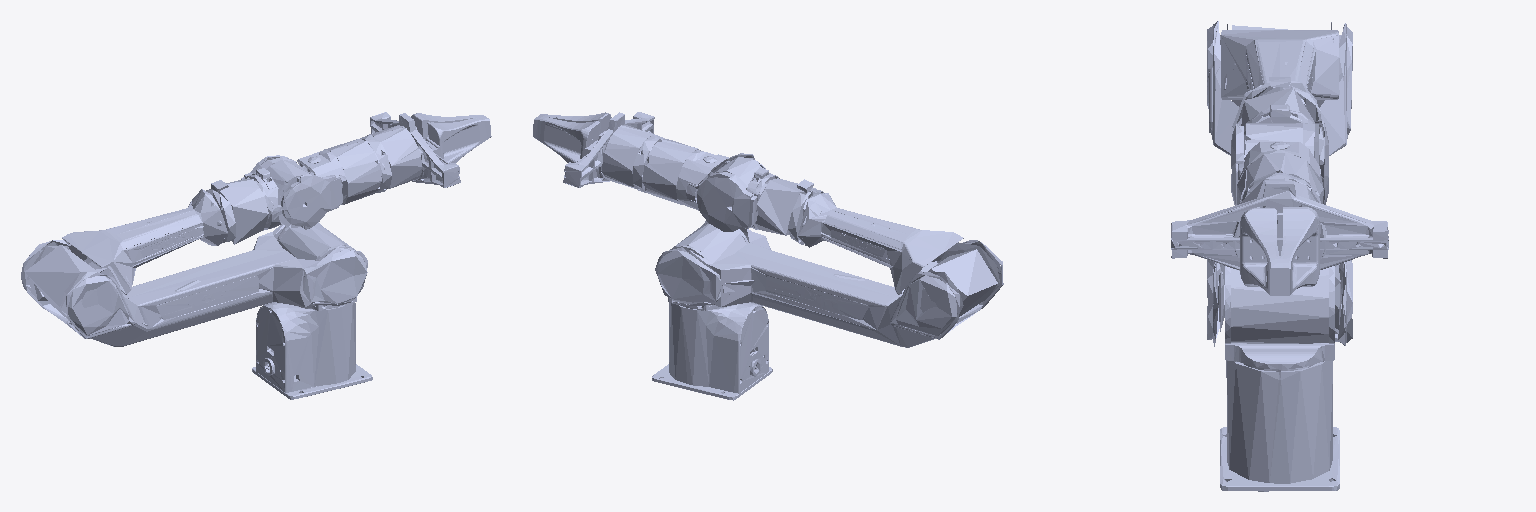
robot.urdf — piper:
<?xml version='1.0' encoding='utf-8'?>
<robot name="piper">
  <!-- Generated by convert_piper_urdf.py from piper_ros piper_description/urdf/piper_description.urdf: fixed joints collapsed, collision meshes removed, visual meshes decimated to 20000 triangles in total. -->
  <link name="base_link">
    <inertial>
      <origin xyz="-0.00473641164 2.56829135e-05 0.041451518" rpy="0 0 0" />
      <mass value="1.02" />
      <inertia ixx="0.00267433" ixy="-7.3e-07" ixz="-0.00017389" iyy="0.00282612" iyz="4e-07" izz="0.00089624" />
    </inertial>
    <visual>
      <origin xyz="0 0 0" rpy="0 0 0" />
      <geometry>
        <mesh filename="meshes/base_link.stl" />
      </geometry>
      <material name="">
        <color rgba="0.792156862745098 0.819607843137255 0.933333333333333 1" />
      </material>
    </visual>
  </link>
  <link name="link1">
    <inertial>
      <origin xyz="0.000121504734 0.000104632162 -0.0043859731" rpy="0 0 0" />
      <mass value="0.71" />
      <inertia ixx="0.00048916" ixy="-3.6e-07" ixz="-2.24e-06" iyy="0.00040472" iyz="-2.42e-06" izz="0.00043982" />
    </inertial>
    <visual>
      <origin xyz="0 0 0" rpy="0 0 0" />
      <geometry>
        <mesh filename="meshes/link1.stl" />
      </geometry>
      <material name="">
        <color rgba="0.792156862745098 0.819607843137255 0.933333333333333 1" />
      </material>
    </visual>
  </link>
  <link name="link2">
    <inertial>
      <origin xyz="0.198666145 -0.0109269241 0.00142121715" rpy="0 0 0" />
      <mass value="1.17" />
      <inertia ixx="0.00116918" ixy="-0.00180037" ixz="0.00025146" iyy="0.06785384" iyz="-4.55e-06" izz="0.06774489" />
    </inertial>
    <visual>
      <origin xyz="0 0 0" rpy="0 0 0" />
      <geometry>
        <mesh filename="meshes/link2.stl" />
      </geometry>
      <material name="">
        <color rgba="0.792156862745098 0.819607843137255 0.933333333333333 1" />
      </material>
    </visual>
  </link>
  <link name="link3">
    <inertial>
      <origin xyz="-0.0202737662 -0.133914996 -0.000458682653" rpy="0 0 0" />
      <mass value="0.5" />
      <inertia ixx="0.01361711" ixy="0.00165794" ixz="-4.8e-07" iyy="0.00045024" iyz="-4.5e-07" izz="0.01380322" />
    </inertial>
    <visual>
      <origin xyz="0 0 0" rpy="0 0 0" />
      <geometry>
        <mesh filename="meshes/link3.stl" />
      </geometry>
      <material name="">
        <color rgba="0.792156862745098 0.819607843137255 0.933333333333333 1" />
      </material>
    </visual>
  </link>
  <link name="link4">
    <inertial>
      <origin xyz="-9.66635792e-05 0.000876064476 -0.00496880905" rpy="0 0 0" />
      <mass value="0.38" />
      <inertia ixx="0.00018501" ixy="5.4e-07" ixz="1.2e-06" iyy="0.00018965" iyz="-8.41e-06" izz="0.00015484" />
    </inertial>
    <visual>
      <origin xyz="0 0 0" rpy="0 0 0" />
      <geometry>
        <mesh filename="meshes/link4.stl" />
      </geometry>
      <material name="">
        <color rgba="0.792156862745098 0.819607843137255 0.933333333333333 1" />
      </material>
    </visual>
  </link>
  <link name="link5">
    <inertial>
      <origin xyz="-4.10554119e-05 -0.0566486692 -0.00372057917" rpy="0 0 0" />
      <mass value="0.383" />
      <inertia ixx="0.00166169" ixy="6e-08" ixz="-7e-08" iyy="0.0001851" iyz="1.026e-05" izz="0.00164321" />
    </inertial>
    <visual>
      <origin xyz="0 0 0" rpy="0 0 0" />
      <geometry>
        <mesh filename="meshes/link5.stl" />
      </geometry>
      <material name="">
        <color rgba="0.792156862745098 0.819607843137255 0.933333333333333 1" />
      </material>
    </visual>
  </link>
  <link name="link6">
    <inertial>
      <origin xyz="-0.000182343625 7.94089953e-05 0.0316206806" rpy="0 0 0" />
      <mass value="0.457" />
      <inertia ixx="0.000937948584" ixy="3.40047052e-07" ixz="-7.35751326e-06" iyy="0.000723078612" iyz="3.31861516e-08" izz="0.000395487487" />
    </inertial>
    <visual>
      <origin xyz="0 0 0" rpy="0 0 0" />
      <geometry>
        <mesh filename="meshes/link6.stl" />
      </geometry>
      <material name="">
        <color rgba="0.898039215686275 0.917647058823529 0.929411764705882 1" />
      </material>
    </visual>
    <visual>
      <origin xyz="0 0 0" rpy="0 0 0" />
      <geometry>
        <mesh filename="meshes/gripper_base.stl" />
      </geometry>
      <material name="">
        <color rgba="0.792156862745098 0.819607843137255 0.933333333333333 1" />
      </material>
    </visual>
  </link>
  <link name="link7">
    <inertial>
      <origin xyz="0.00065123185 -0.0491929869 0.00972258769" rpy="0 0 0" />
      <mass value="0.025" />
      <inertia ixx="7.371e-05" ixy="-1.13e-06" ixz="2.1e-07" iyy="7.81e-06" iyz="-1.372e-05" izz="7.47e-05" />
    </inertial>
    <visual>
      <origin xyz="0 0 0" rpy="0 0 0" />
      <geometry>
        <mesh filename="meshes/link7.stl" />
      </geometry>
      <material name="">
        <color rgba="0.792156862745098 0.819607843137255 0.933333333333333 1" />
      </material>
    </visual>
  </link>
  <link name="link8">
    <inertial>
      <origin xyz="0.00065123185 -0.0491929869 0.00972258769" rpy="0 0 0" />
      <mass value="0.025" />
      <inertia ixx="7.371e-05" ixy="-1.13e-06" ixz="2.1e-07" iyy="7.81e-06" iyz="-1.372e-05" izz="7.47e-05" />
    </inertial>
    <visual>
      <origin xyz="0 0 0" rpy="0 0 0" />
      <geometry>
        <mesh filename="meshes/link8.stl" />
      </geometry>
      <material name="">
        <color rgba="0.792156862745098 0.819607843137255 0.933333333333333 1" />
      </material>
    </visual>
  </link>
  <joint name="joint1" type="revolute">
    <origin xyz="0 0 0.123" rpy="0 0 0" />
    <parent link="base_link" />
    <child link="link1" />
    <axis xyz="0 0 1" />
    <limit lower="-2.618" upper="2.618" effort="100" velocity="5" />
  </joint>
  <joint name="joint2" type="revolute">
    <origin xyz="0 0 0" rpy="1.5708 -0.1359 3.14158531" />
    <parent link="link1" />
    <child link="link2" />
    <axis xyz="0 0 1" />
    <limit lower="0" upper="3.14" effort="100" velocity="5" />
  </joint>
  <joint name="joint3" type="revolute">
    <origin xyz="0.28503 0 0" rpy="0 0 -1.7939" />
    <parent link="link2" />
    <child link="link3" />
    <axis xyz="0 0 1" />
    <limit lower="-2.967" upper="0" effort="100" velocity="5" />
  </joint>
  <joint name="joint4" type="revolute">
    <origin xyz="-0.021984 -0.25075 0" rpy="1.5708 0 0" />
    <parent link="link3" />
    <child link="link4" />
    <axis xyz="0 0 1" />
    <limit lower="-1.745" upper="1.745" effort="100" velocity="5" />
  </joint>
  <joint name="joint5" type="revolute">
    <origin xyz="0 0 0" rpy="-1.5708 0 0" />
    <parent link="link4" />
    <child link="link5" />
    <axis xyz="0 0 1" />
    <limit lower="-1.22" upper="1.22" effort="100" velocity="5" />
  </joint>
  <joint name="joint6" type="revolute">
    <origin xyz="8.8259e-05 -0.091 0" rpy="1.5708 0 0" />
    <parent link="link5" />
    <child link="link6" />
    <axis xyz="0 0 1" />
    <limit lower="-2.0944" upper="2.0944" effort="100" velocity="3" />
  </joint>
  <joint name="joint7" type="prismatic">
    <origin xyz="0 0 0.1358" rpy="1.5708 0 0" />
    <parent link="link6" />
    <child link="link7" />
    <axis xyz="0 0 1" />
    <limit lower="0" upper="0.035" effort="10" velocity="1" />
  </joint>
  <joint name="joint8" type="prismatic">
    <origin xyz="0 0 0.1358" rpy="1.5708 0 3.14158531" />
    <parent link="link6" />
    <child link="link8" />
    <axis xyz="0 0 -1" />
    <limit lower="-0.035" upper="0" effort="10" velocity="1" />
  </joint>
</robot>

--- What the picture shows (computed from the rendered views, not written in the file) ---
Views: 3 orthographic renders of the robot side by side, from view 1: azimuth 30°, elevation 25°; view 2: azimuth 150°, elevation 25°; view 3: azimuth 270°, elevation 25°.
Robot: piper — 9 links, 8 joints (6 revolute, 2 prismatic); root link base_link; default pose: all joints at 0.
Links seen in each view (by area): view 1: link2, link3, base_link, link5, link6, link4, link7, link1, link8; view 2: link2, link3, base_link, link6, link4, link5, link8, link1, link7; view 3: base_link, link3, link1, link6, link2, link5, link8, link4, link7.
Link boxes in pixels (left/top/right/bottom): link2: left=21, top=222, right=367, bottom=346; link3: left=27, top=179, right=268, bottom=315; base_link: left=252, top=302, right=372, bottom=399; link5: left=281, top=139, right=381, bottom=229; link6: left=360, top=112, right=460, bottom=192; link4: left=241, top=155, right=310, bottom=230; link7: left=425, top=117, right=491, bottom=163; link1: left=277, top=223, right=356, bottom=310; link8: left=411, top=113, right=485, bottom=140; link2: left=655, top=221, right=1003, bottom=347; link3: left=756, top=178, right=999, bottom=311; base_link: left=652, top=302, right=772, bottom=400; link6: left=563, top=112, right=664, bottom=192; link4: left=697, top=157, right=779, bottom=231; link5: left=642, top=139, right=765, bottom=210; link8: left=533, top=117, right=599, bottom=162; link1: left=668, top=222, right=748, bottom=310; link7: left=538, top=112, right=611, bottom=140; base_link: left=1220, top=361, right=1339, bottom=491; link3: left=1220, top=22, right=1339, bottom=128; link1: left=1225, top=266, right=1338, bottom=371; link6: left=1171, top=173, right=1388, bottom=270; link2: left=1207, top=21, right=1352, bottom=346; link5: left=1231, top=124, right=1323, bottom=205; link8: left=1280, top=207, right=1319, bottom=295; link4: left=1244, top=104, right=1328, bottom=204; link7: left=1240, top=208, right=1279, bottom=295.
Bounding box of the posed robot: 0.5079 × 0.145 × 0.2563 m (x, y, z).
10 mesh visuals loaded from 10 distinct referenced files (10 binary STL).
